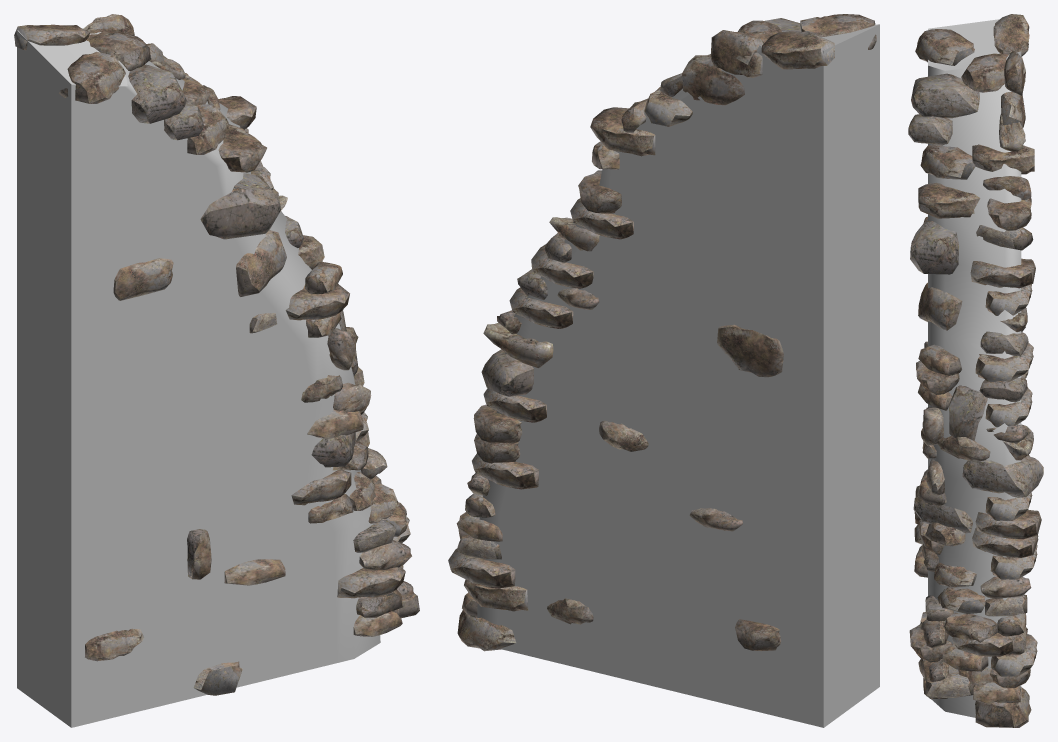
File: SM_Wall03.FBX
The picture shows the model from 3 angles, left to right: view 1: azimuth 30°, elevation 25°; view 2: azimuth 150°, elevation 25°; view 3: azimuth 270°, elevation 25°; orthographic projection. The views are drawn at different scales.
Parts seen in each view (by area): view 1: SM_Wall03; view 2: SM_Wall03; view 3: SM_Wall03.
Part boxes in pixels (<box>): SM_Wall03: <box>14,14,419,727</box>; SM_Wall03: <box>448,14,879,727</box>; SM_Wall03: <box>908,14,1043,727</box>.
Bounding box in the file's own units: 592 × 218 × 1010.
